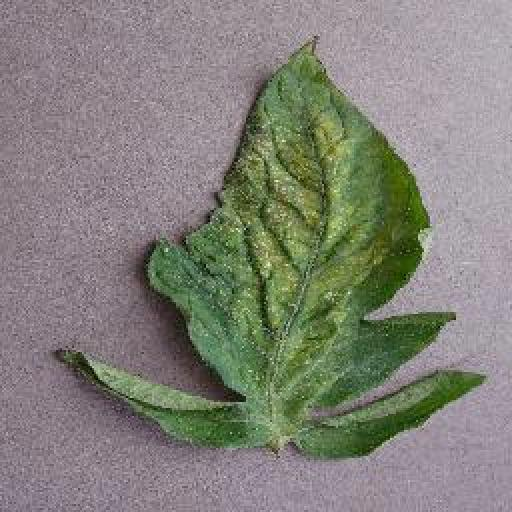disease_tomato: (63, 36, 485, 462)
